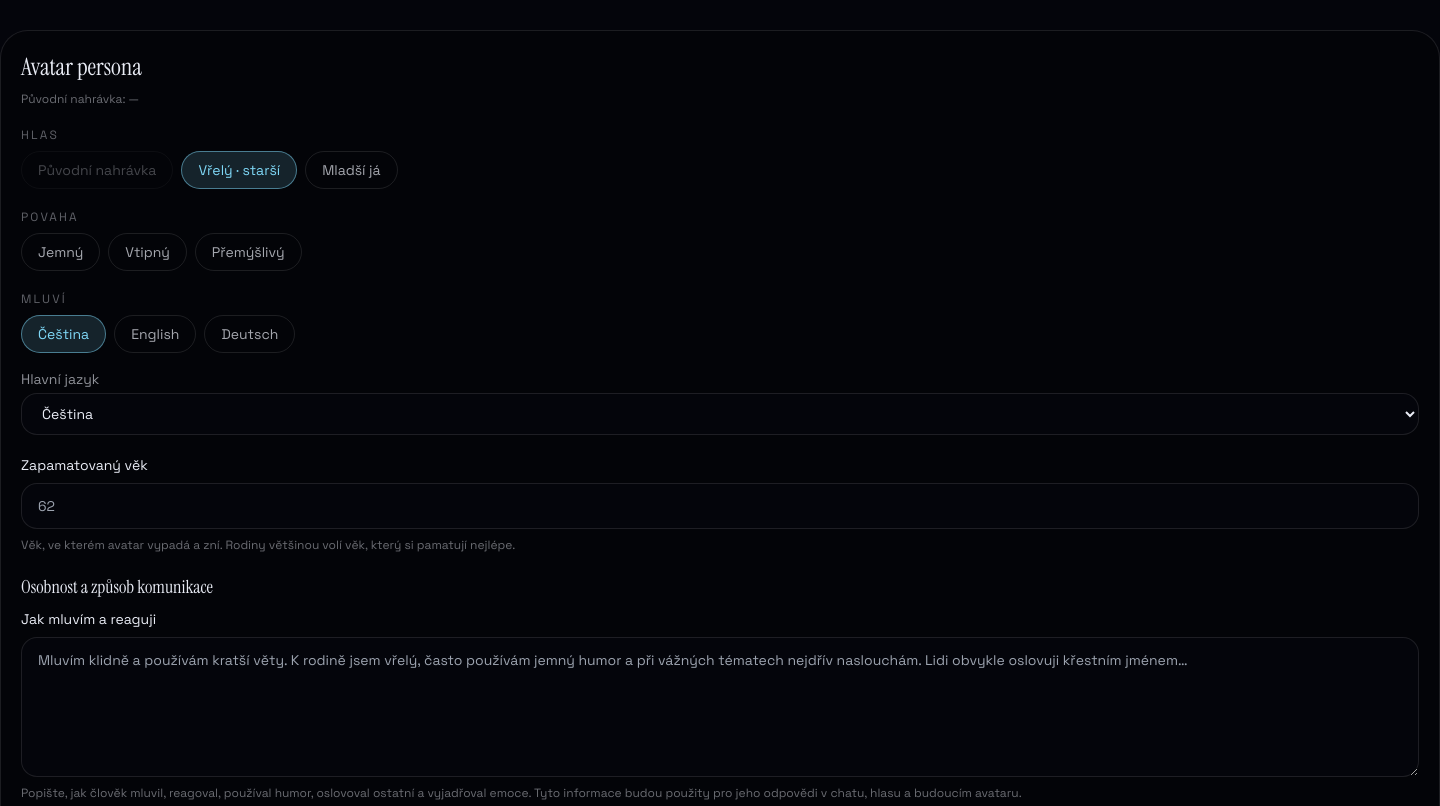
AvatarPersonaPanel › preserves entered text when save fails
Check: the text "Hlas" is shown, box [21, 127, 59, 143]
Step 1. Type "Draft text stays" into the text box with placeholder "Mluvím klidně a používám kratší věty" → coordinates (720, 707), box [21, 637, 1419, 777]
(page scrolled)
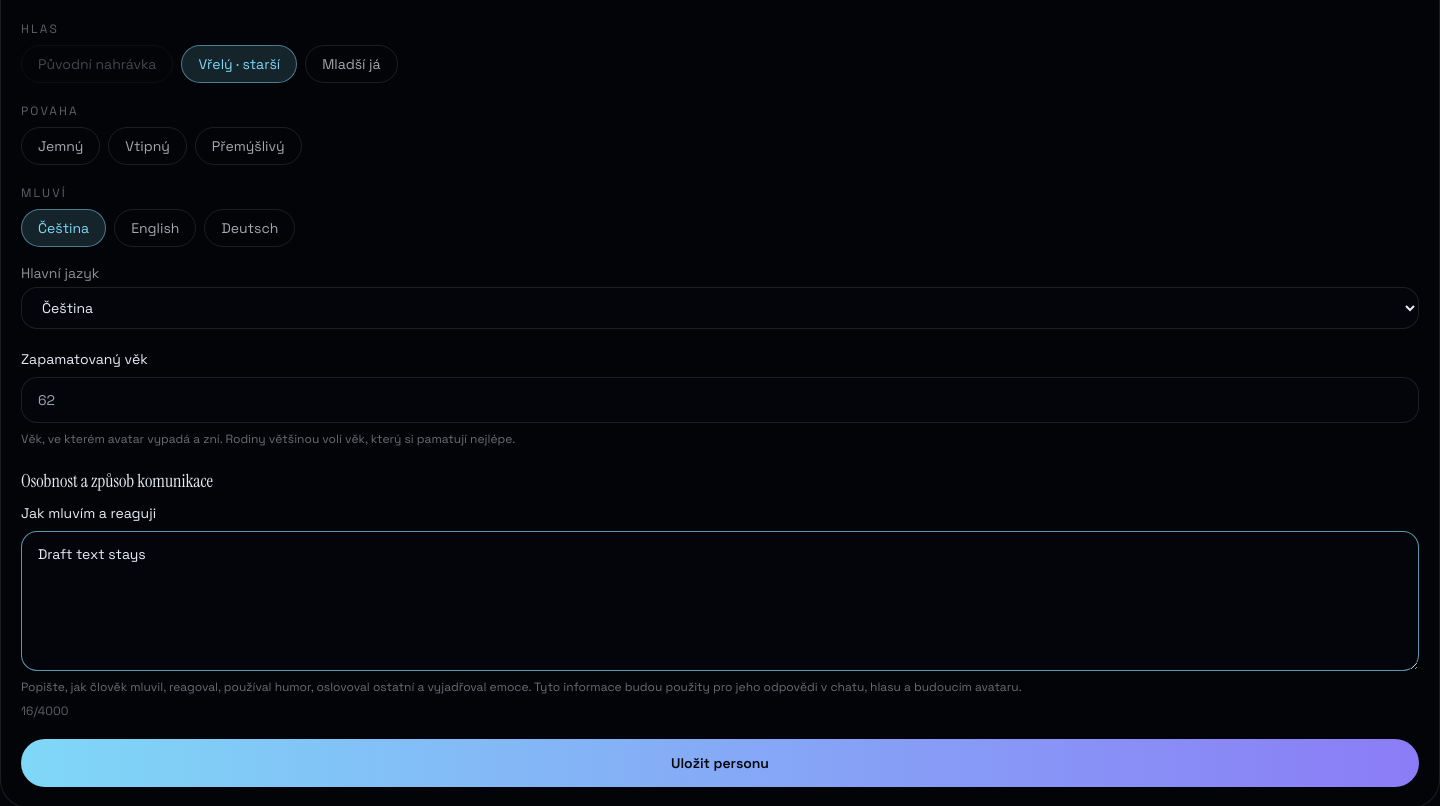
Step 2. Click the button "Uložit personu" → coordinates (720, 763), box [21, 739, 1419, 787]
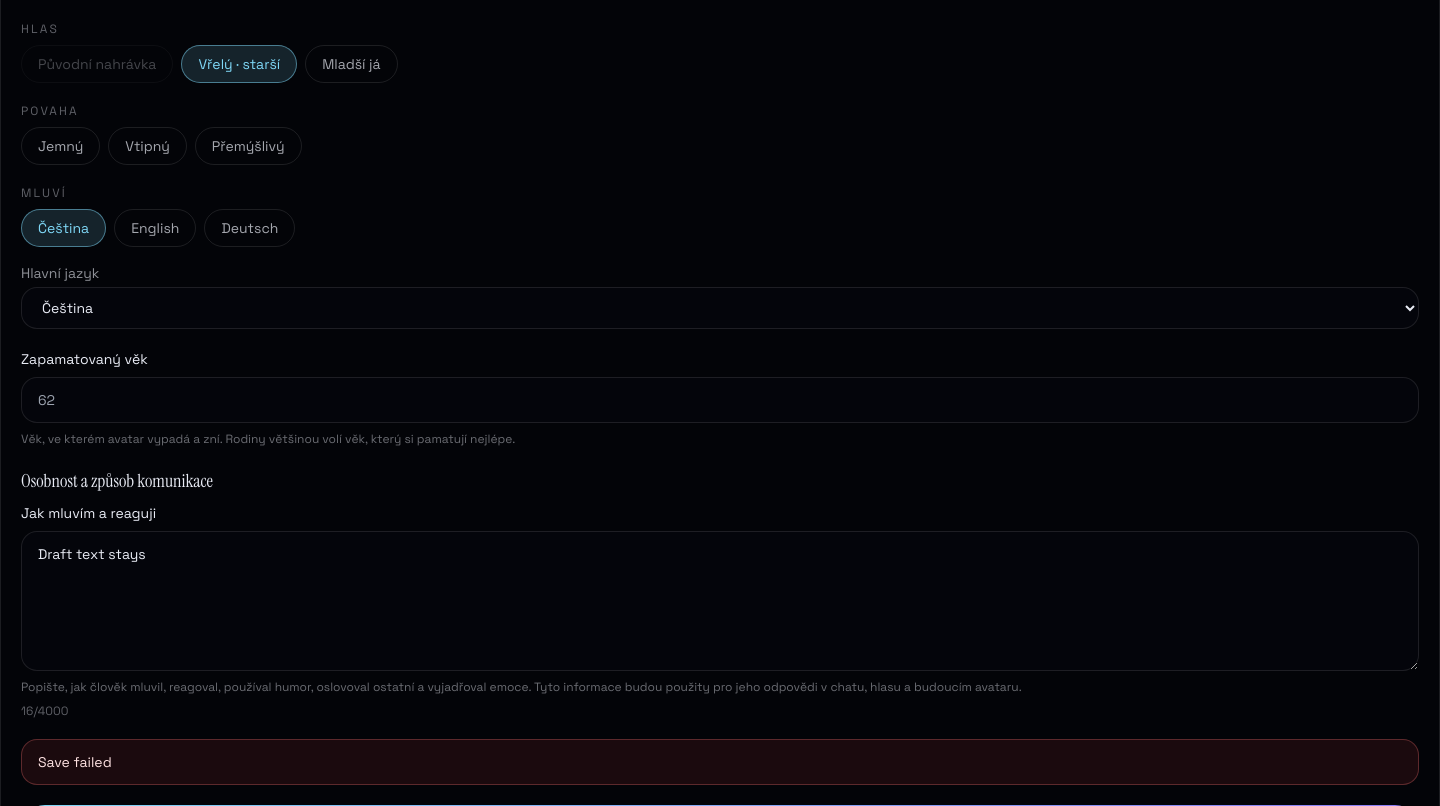
Check: the text "Save failed" is shown, box [21, 739, 1419, 785]
